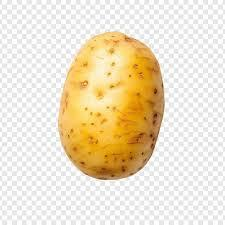non-mango: (57, 30, 164, 180)
